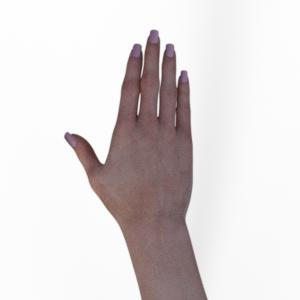paper: (64, 30, 207, 300)
